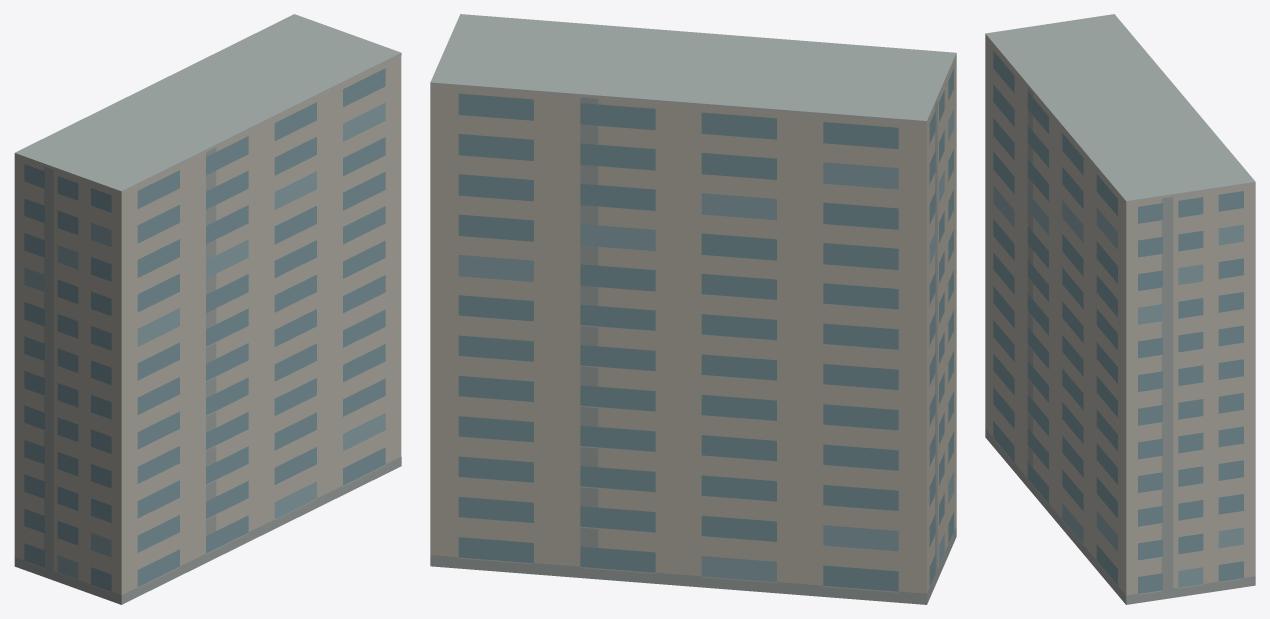
Rendered from residential-5c9d6e10-6105-4402-8ed3-e9c8a80ae992.glb.
3 renders of one model, left to right at view 1: azimuth 30°, elevation 25°; view 2: azimuth 150°, elevation 25°; view 3: azimuth 270°, elevation 25°, orthographic. The views are drawn at different scales.
Parts seen in each view (by area): view 1: residential-5c9d6e10-6105-4402-8ed3-e9c8a80ae992.tmp; view 2: residential-5c9d6e10-6105-4402-8ed3-e9c8a80ae992.tmp; view 3: residential-5c9d6e10-6105-4402-8ed3-e9c8a80ae992.tmp.
Part boxes in pixels (box(x1,y1,x2,y2)): residential-5c9d6e10-6105-4402-8ed3-e9c8a80ae992.tmp: box(14, 14, 401, 604); residential-5c9d6e10-6105-4402-8ed3-e9c8a80ae992.tmp: box(430, 14, 956, 604); residential-5c9d6e10-6105-4402-8ed3-e9c8a80ae992.tmp: box(985, 14, 1255, 604).
Bounding box in the file's own units: 34.8 × 35 × 21.25.
